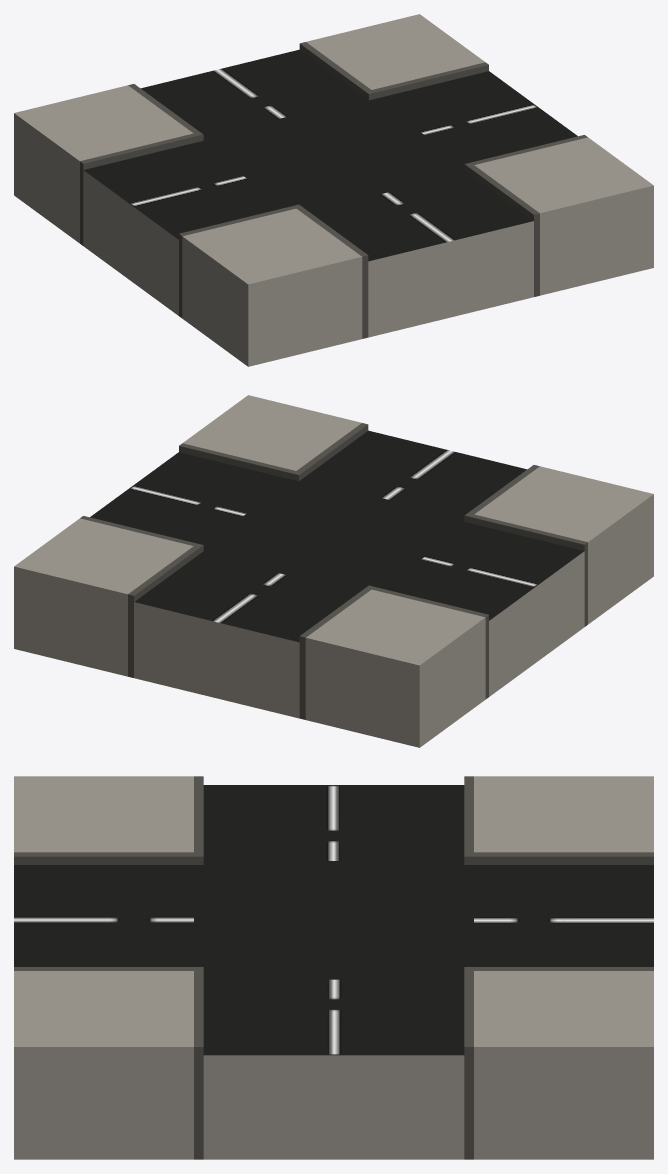
File: Road_Road02.fbx
3 renders of one model, top to bottom at view 1: azimuth 30°, elevation 25°; view 2: azimuth 150°, elevation 25°; view 3: azimuth 270°, elevation 25°, orthographic. The views are drawn at different scales.
Parts seen in each view (by area): view 1: Road_Road02; view 2: Road_Road02; view 3: Road_Road02.
Boxes of the visible parts, x1,y1,x2,y2 form: Road_Road02: [14, 14, 653, 366]; Road_Road02: [14, 395, 653, 747]; Road_Road02: [14, 776, 653, 1159].
Bounding box in the file's own units: 1696 × 329 × 1696.
